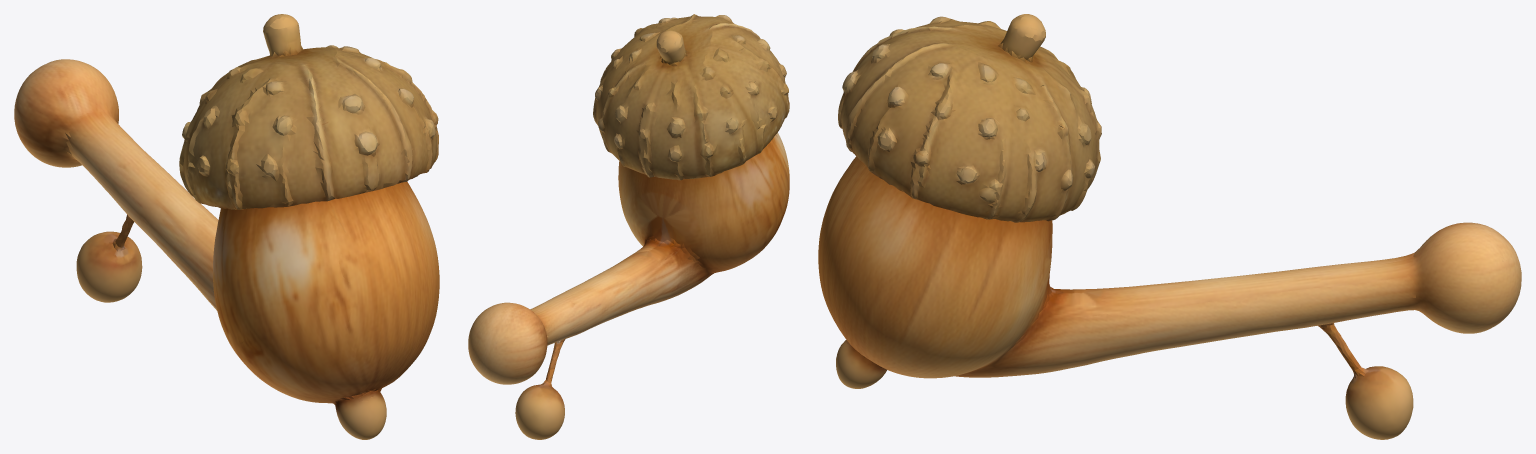
The picture shows the model from 3 angles, left to right: view 1: azimuth 30°, elevation 25°; view 2: azimuth 150°, elevation 25°; view 3: azimuth 270°, elevation 25°; orthographic projection. The views are drawn at different scales.
Parts seen in each view (by area): view 1: 060; view 2: 060; view 3: 060.
Boxes of the visible parts, x1,y1,x2,y2 form: 060: [14, 14, 439, 439]; 060: [468, 14, 789, 439]; 060: [818, 14, 1521, 439].
Bounding box in the file's own units: 0.7088 × 1.25 × 1.9.
Materials: 1 (1 with a texture image).
